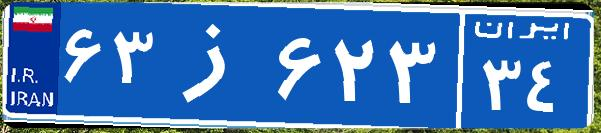2: (330, 28, 385, 110)
3: (385, 28, 445, 110), (475, 38, 525, 113), (110, 28, 158, 105)
4: (525, 38, 570, 115)
6: (273, 28, 330, 110), (57, 26, 110, 107)
ز: (158, 15, 273, 115)
